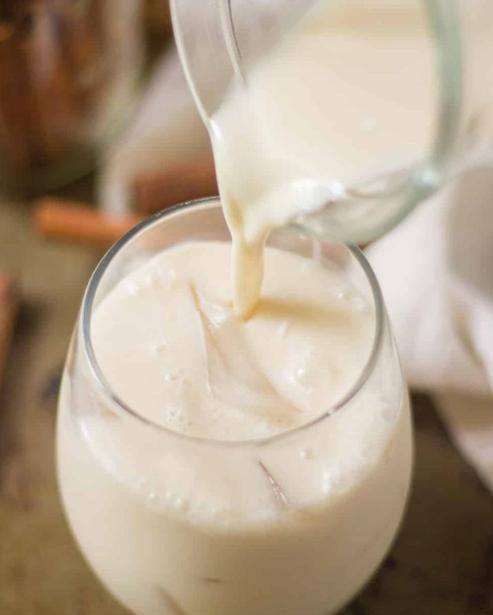produk_susu: (126, 218, 346, 598)
